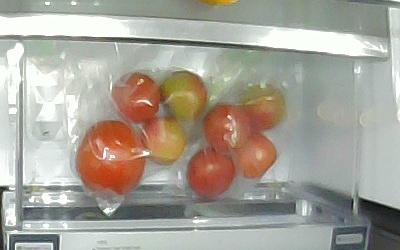tomato_vinyl: (76, 119, 146, 194), (186, 149, 236, 201), (203, 102, 252, 152), (161, 70, 208, 122), (139, 117, 187, 165), (113, 73, 162, 120), (240, 84, 287, 132), (233, 130, 279, 179)
